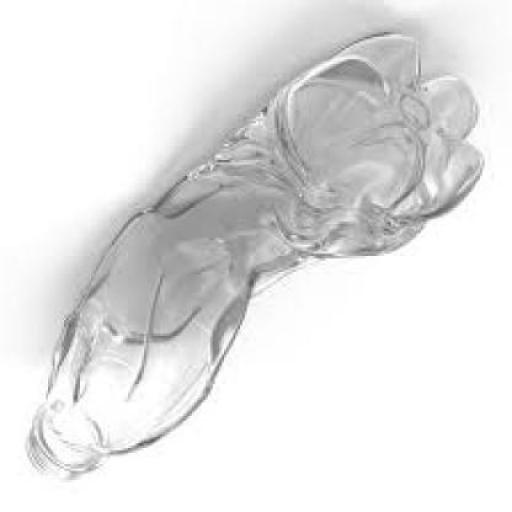plastic: (22, 36, 483, 487)
